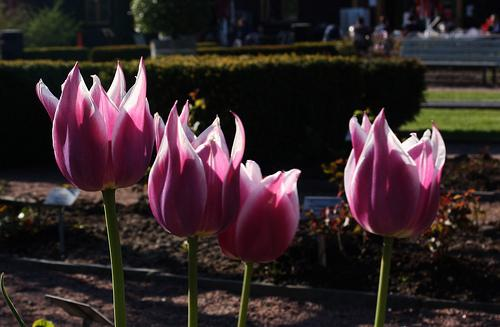tulip: (38, 58, 154, 187), (149, 101, 244, 236), (346, 109, 445, 238), (220, 161, 303, 260)
